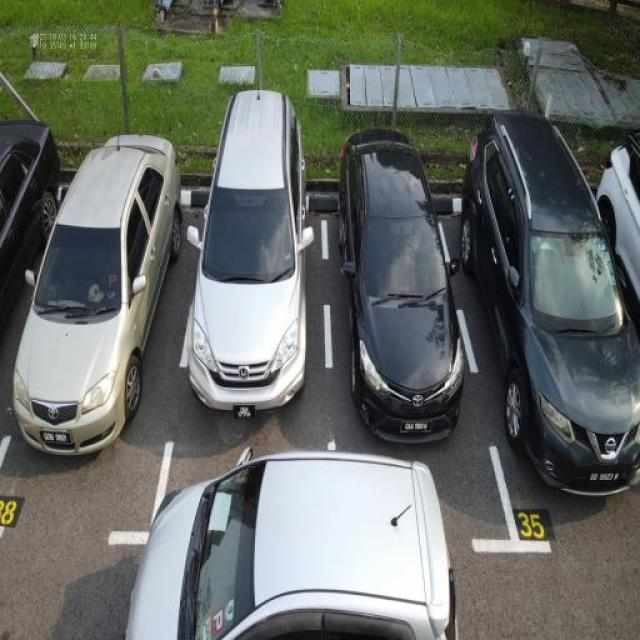Legalparking: (1, 95, 640, 498)
illegalparking: (111, 440, 484, 640)
